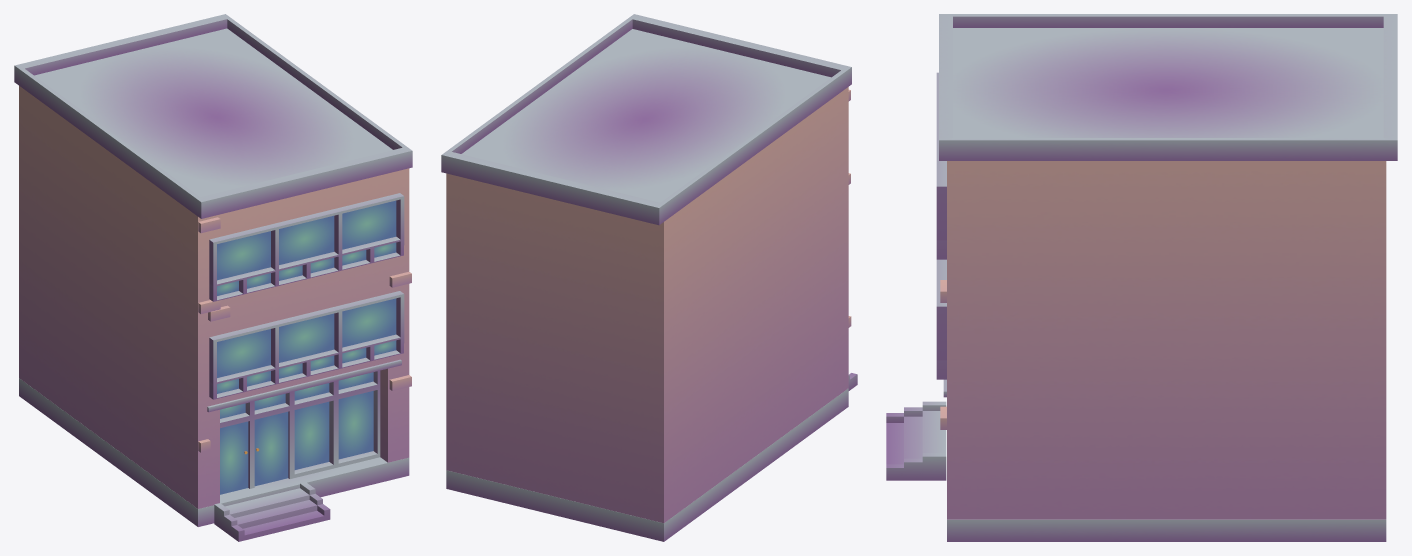
3 views of the same model, side by side, from view 1: azimuth 30°, elevation 25°; view 2: azimuth 150°, elevation 25°; view 3: azimuth 270°, elevation 25° (orthographic). The views are drawn at different scales.
Visible parts, largest first — view 1: SM_3F_L_03; view 2: SM_3F_L_03; view 3: SM_3F_L_03.
Part boxes in pixels (x1,y1,x2,y2): SM_3F_L_03: (14,14,412,541); SM_3F_L_03: (441,14,857,541); SM_3F_L_03: (886,14,1397,541).
Size of the model in its own units: 7.71 by 13.17 by 11.44.
